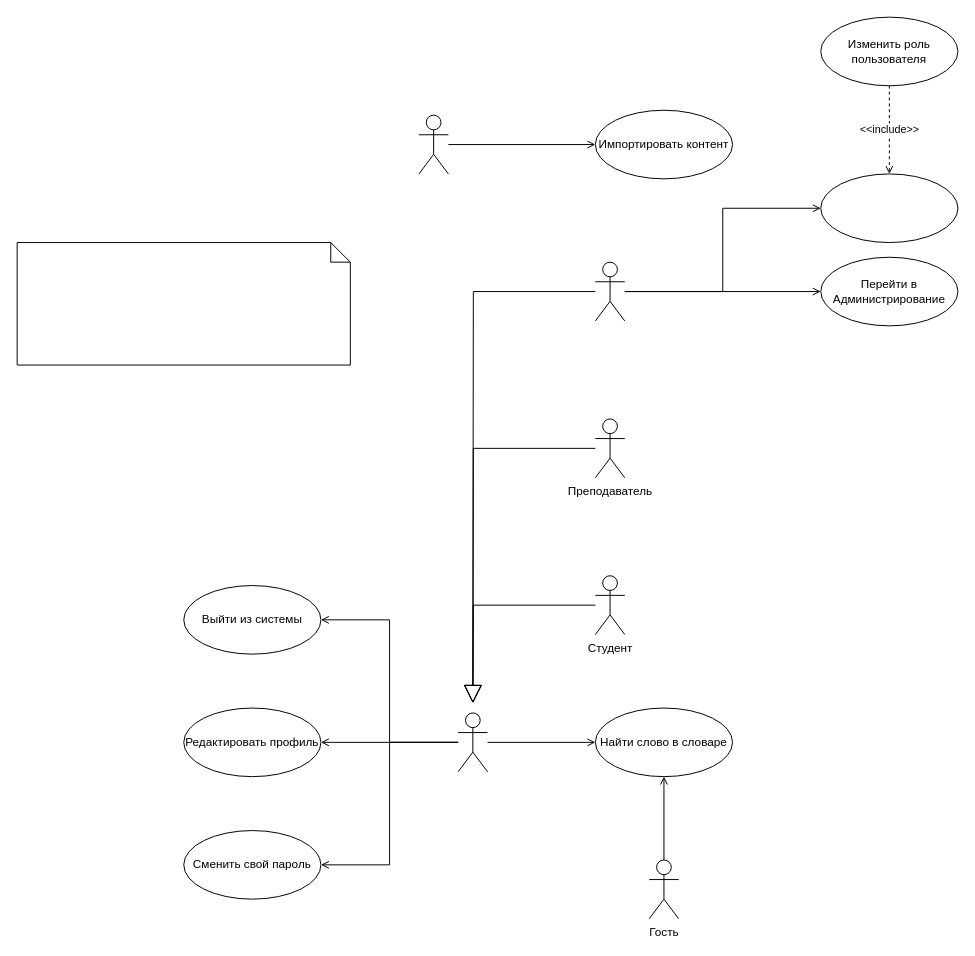
Some shapes in this 975 by 956 pixel diagram are drawn without their labels. Here are the shapes that lost their labels. From the top down, the box of each, then its label:
(418, 114, 448, 174): Скрипт импорта
(820, 173, 958, 243): Просмотреть список пользователей
(16, 242, 350, 365): Юзкейсы завершены в PlantUML, но не здесь
(594, 261, 625, 321): Администратор
(457, 712, 488, 772): Авторизованный пользователь
